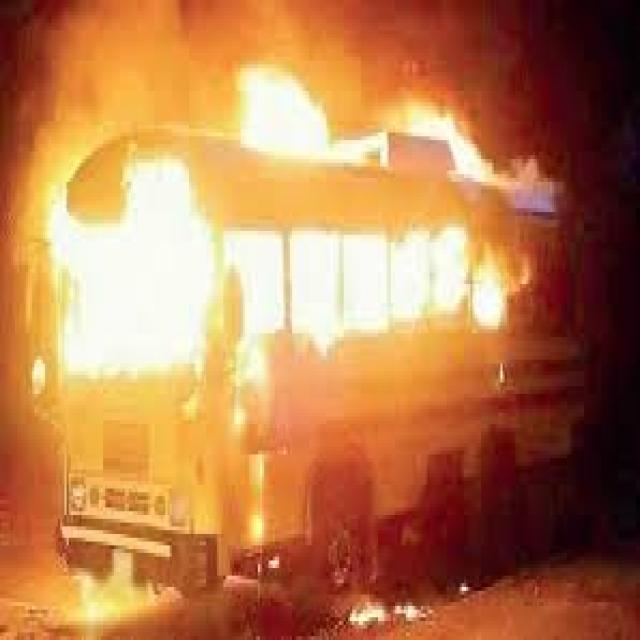Fire: (0, 77, 552, 432)
